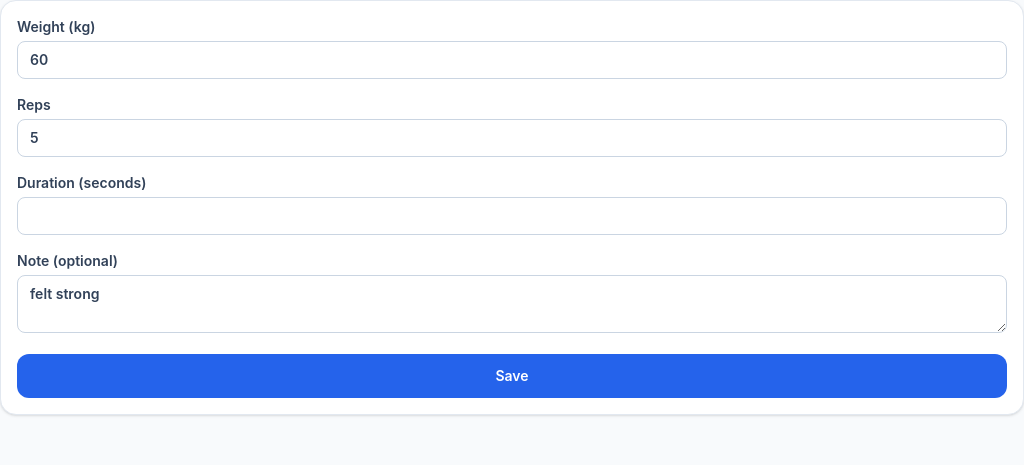
Test: ExerciseCapabilityForm › saves an edit with source 'manual' and shows the saved state
Replace the text in the number field labelled "Weight (kg)" with "65" at (512, 60), box [17,41,1007,79]
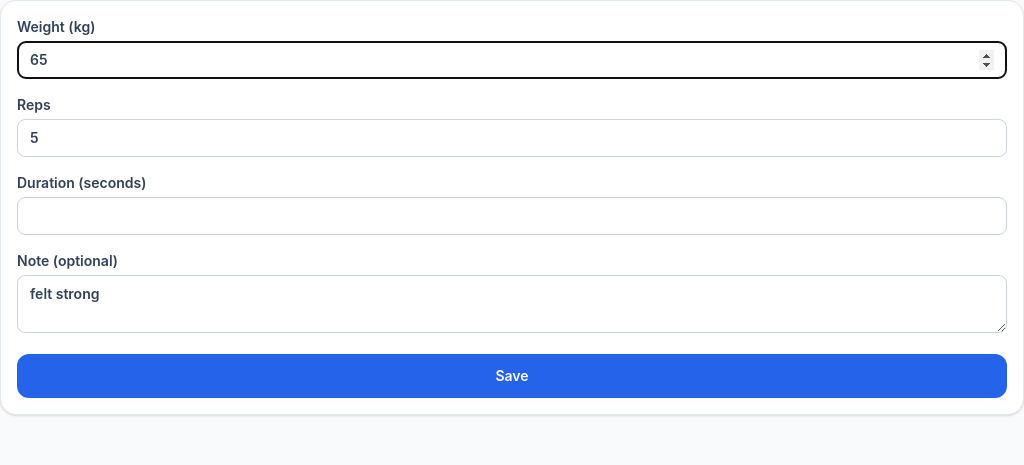
Click the button "Save".
click(512, 376)  # box [17,354,1007,398]
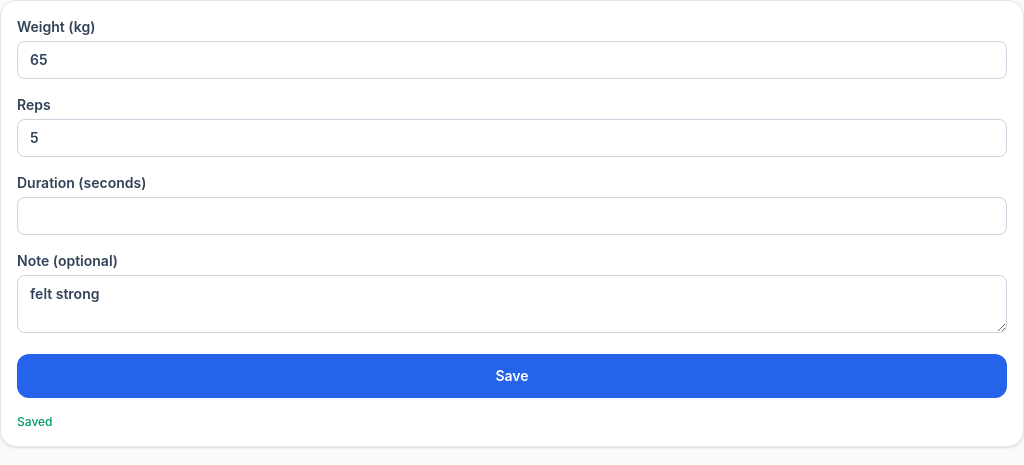
Expected: the text "Saved" is shown, [17,414,52,429]
